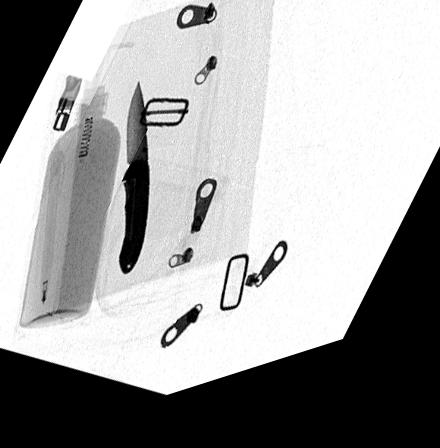Knife: (118, 88, 149, 282)
